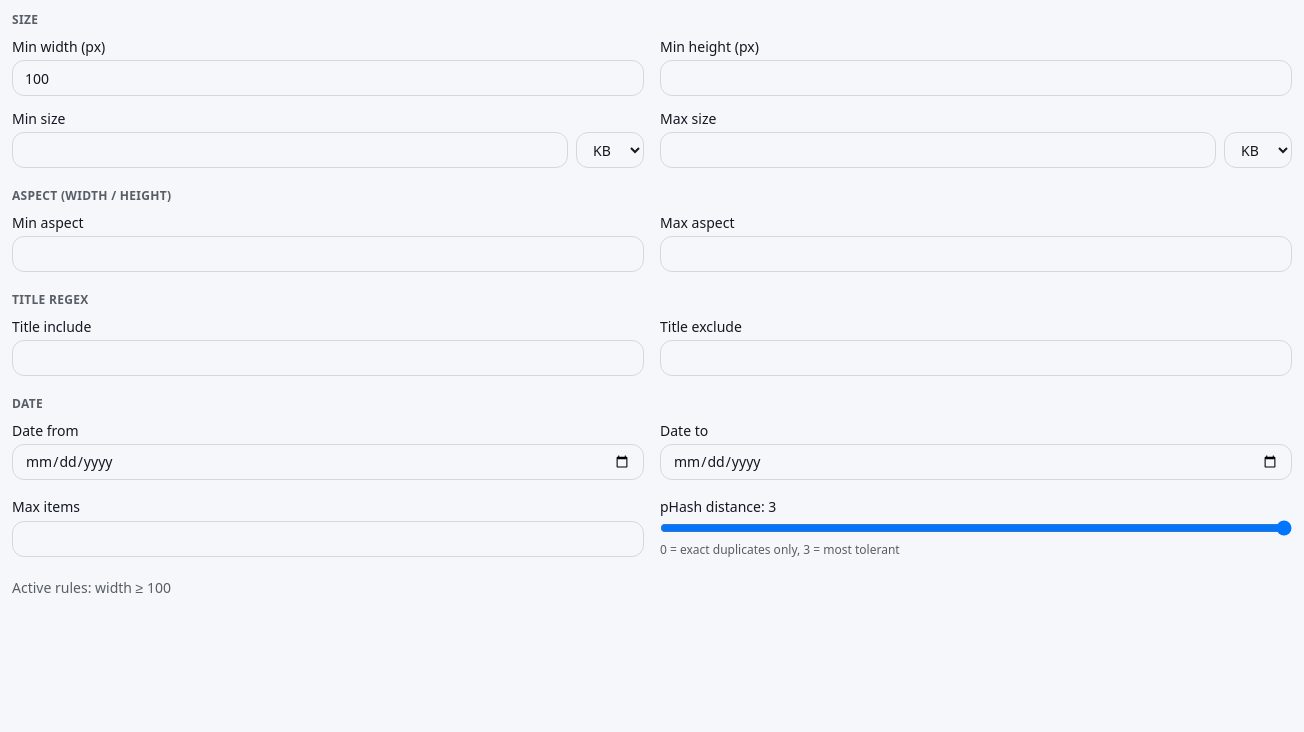
Scenario: FilterBuilder › filter builder empty inputs become null
Clear the number field labelled "Min width (px)" at (328, 78), box [12, 60, 644, 96]
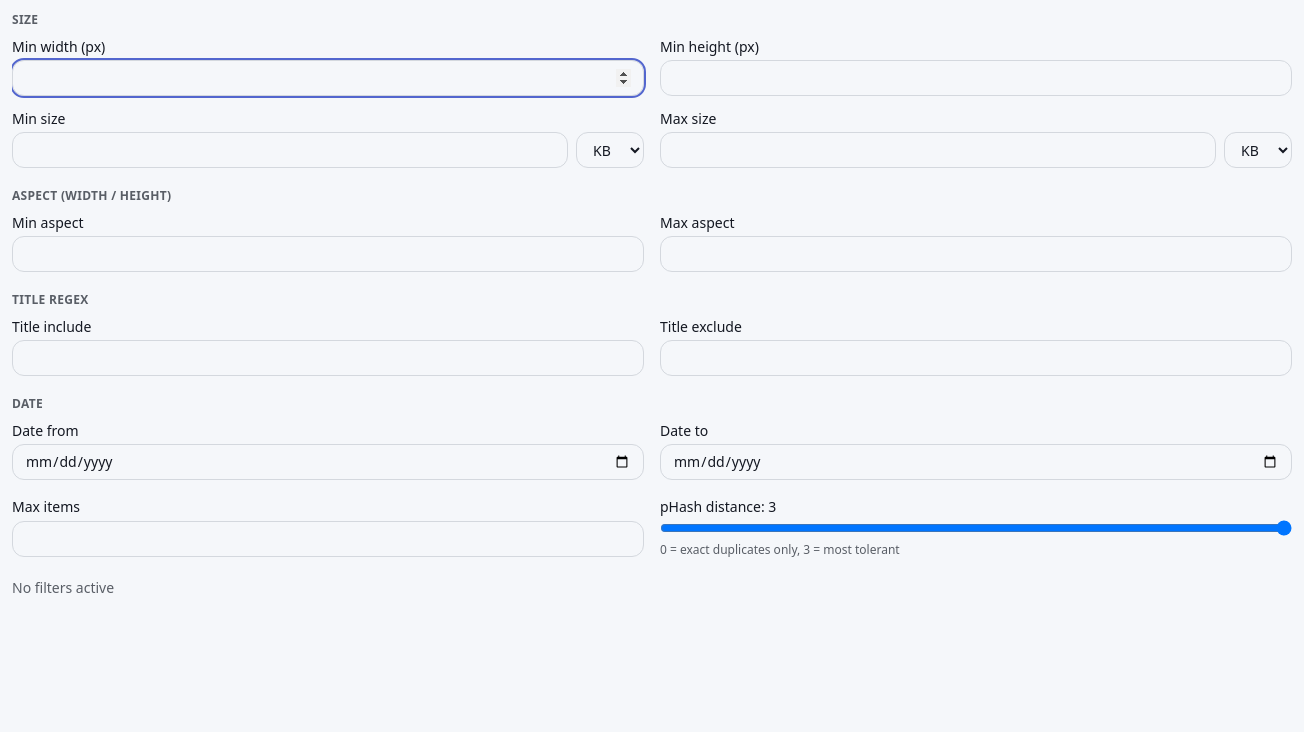
expect the text with test id "filter-summary" reads "No filters active": met, box [12, 578, 114, 597]
